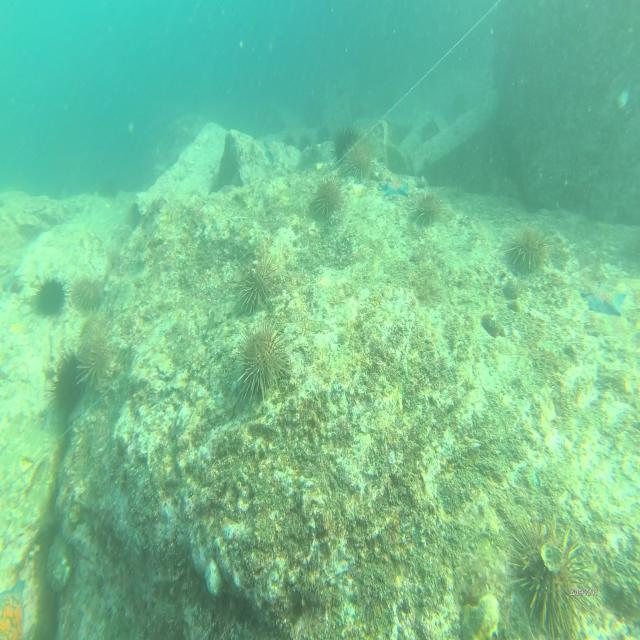echinus: (514, 511, 586, 635), (238, 318, 290, 400), (75, 325, 117, 391), (504, 220, 550, 277), (47, 355, 89, 414), (240, 253, 278, 310), (339, 135, 372, 184), (34, 272, 70, 314), (314, 177, 342, 224), (331, 123, 358, 168), (74, 276, 102, 317), (415, 190, 443, 225)
starfish: (584, 275, 625, 320), (0, 580, 28, 640), (380, 175, 410, 200), (262, 135, 279, 162)
